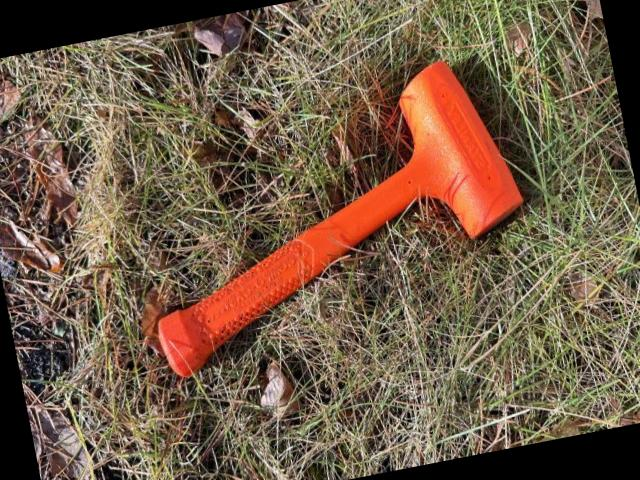hammer: (114, 49, 545, 377)
